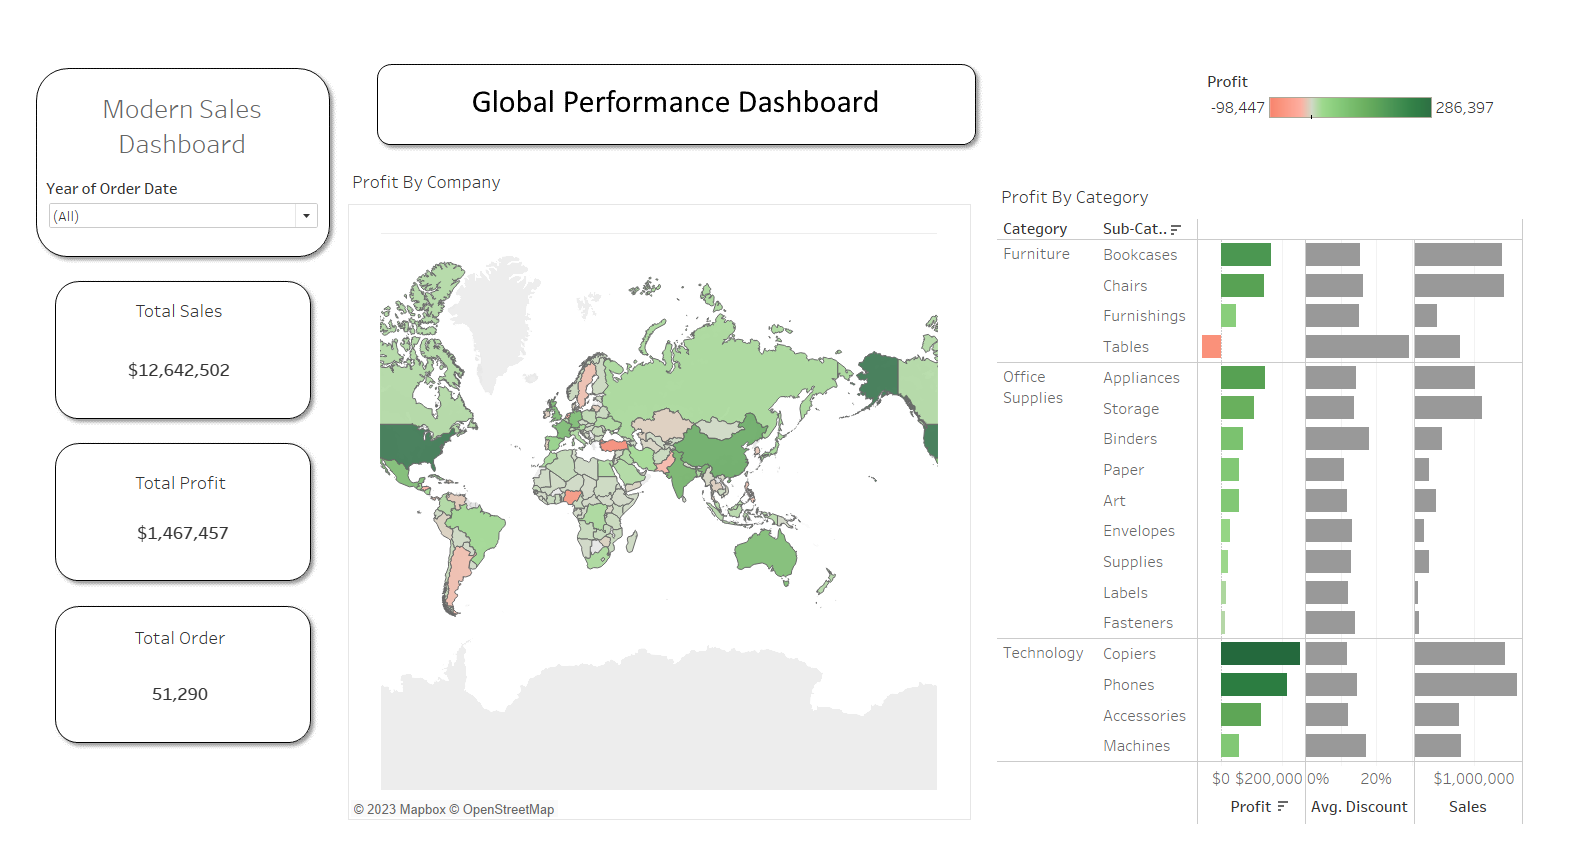

The page's visual inventory and layout, read from the dashboard file:
{"tool":"tableau","page":{"name":"GLOBAL PERFORMANCE DASHBOARD","canvas":[1000,1000],"units":"permille","ordinal":0},"visuals":[{"type":"image","param":"Image/Presentation.png","box":[5.1,9.8,989.9,980.5]},{"type":"legend","title":"Profit By Company","param":"[federated.0041xhe15o9qlv1anjkld0iodxcj].[sum:Profit:qk]","box":[781.6,48.8,184.8,89]},{"type":"text","box":[58.9,68.3,148.1,95.1]},{"type":"worksheet","title":"Profit By Company","mark":"Automatic","box":[238,163.4,394.3,798.8]},{"type":"filter","title":"Profit By Category","param":"[federated.0041xhe15o9qlv1anjkld0iodxcj].[yr:Order Date:ok]","box":[46.8,179.3,174.1,69.5]},{"type":"worksheet","title":"Profit By Category","mark":"Automatic","rows":["Category","Sub-Category"],"cols":["Profit","Discount","Sales"],"box":[648.7,181.7,332.9,786.6]},{"type":"worksheet","title":"Total Sales","mark":"Automatic","box":[71.5,320.7,119,135.4]},{"type":"worksheet","title":"Total Profit ","mark":"Automatic","box":[62,530.5,142.4,112.2]},{"type":"worksheet","title":"Total Order","mark":"Automatic","box":[70.9,719.5,121.5,126.8]}]}

Visuals, with their boxes on the dashboard's canvas, which has no fixed pixel size, in thousandths of its width and height (x1, y1, x2, y2). These are canvas units, not pixel positions in the 1575x866 screenshot, which may show the page scaled, cropped or inside an application window:
image: 5 10 995 990
"Profit By Company" legend: 782 49 966 138
text: 59 68 207 163
"Profit By Company" worksheet: 238 163 632 962
"Profit By Category" filter: 47 179 221 249
"Profit By Category" worksheet: 649 182 982 968
"Total Sales" worksheet: 72 321 190 456
"Total Profit " worksheet: 62 530 204 643
"Total Order" worksheet: 71 720 192 846
